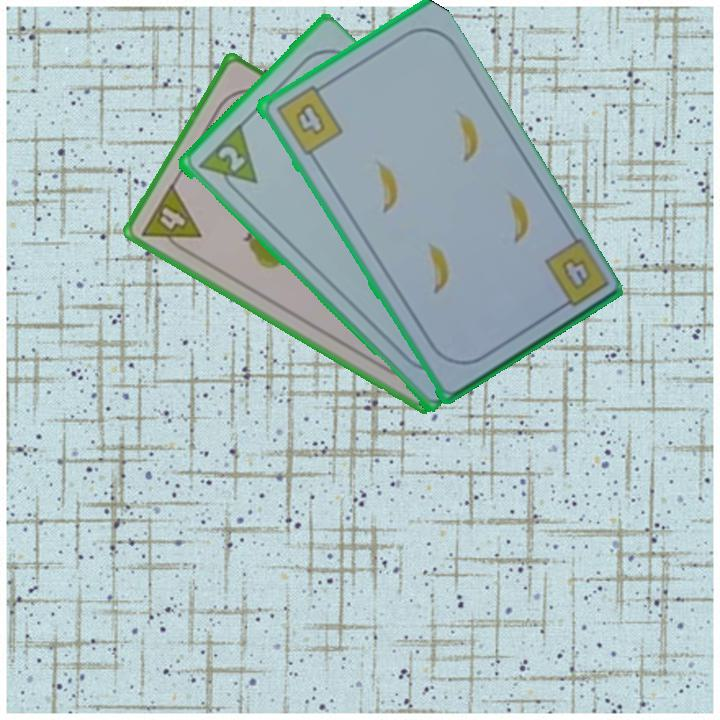2p: (193, 122, 260, 201)
4b: (539, 235, 610, 316), (271, 80, 345, 157)
4p: (138, 180, 204, 259)
